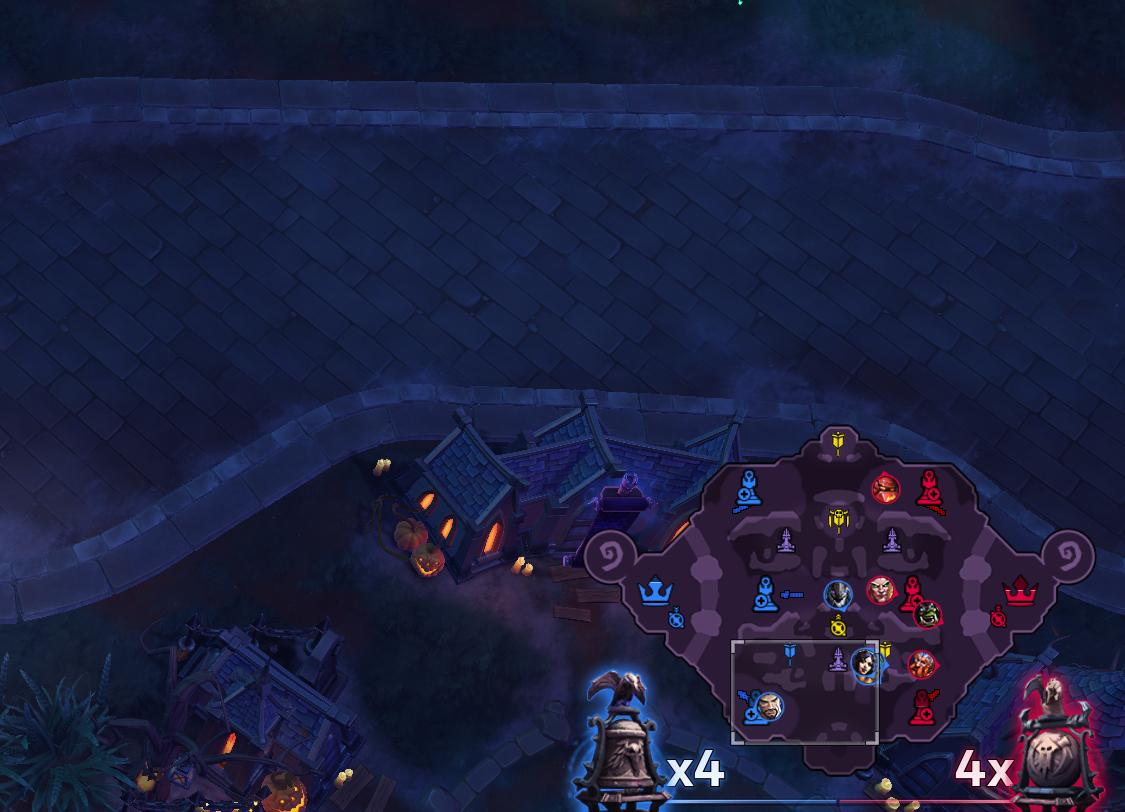blue nexus: (629, 564, 684, 616)
blue player: (816, 575, 858, 614), (750, 690, 788, 728), (847, 645, 883, 679)
blue tower: (748, 573, 788, 616), (733, 465, 767, 512)
red nexus: (995, 572, 1043, 615)
red player: (861, 568, 903, 613), (866, 466, 907, 510), (902, 646, 945, 685), (911, 595, 948, 634)
red tower: (906, 689, 941, 727), (916, 469, 946, 509)
